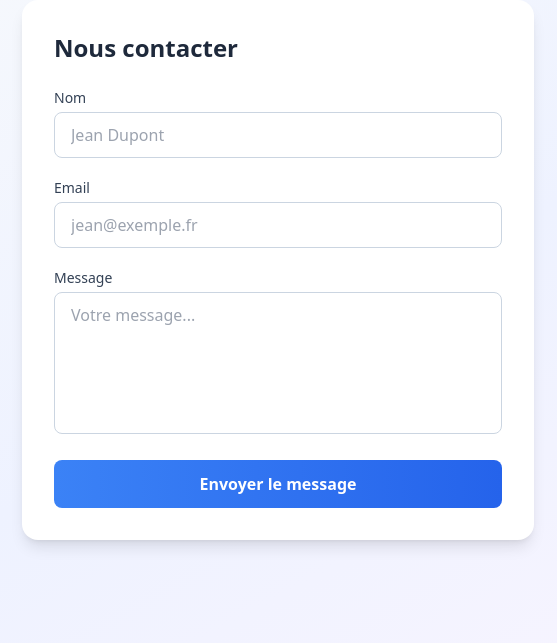
it: ContactForm › affiche une erreur si le nom est vide
The image size is (557, 643).
Click the button "Envoyer le message": [278, 484] box 54,460 -> 502,508
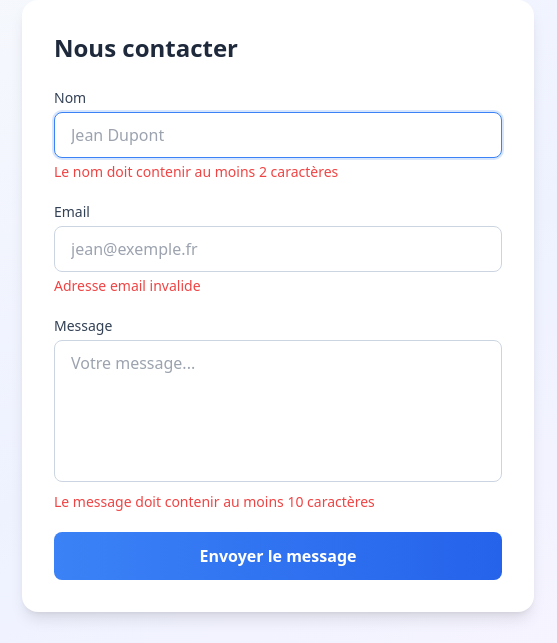
Check: the text "Le nom doit contenir au moins 2 caractères" is shown, box 54,162 -> 338,181
